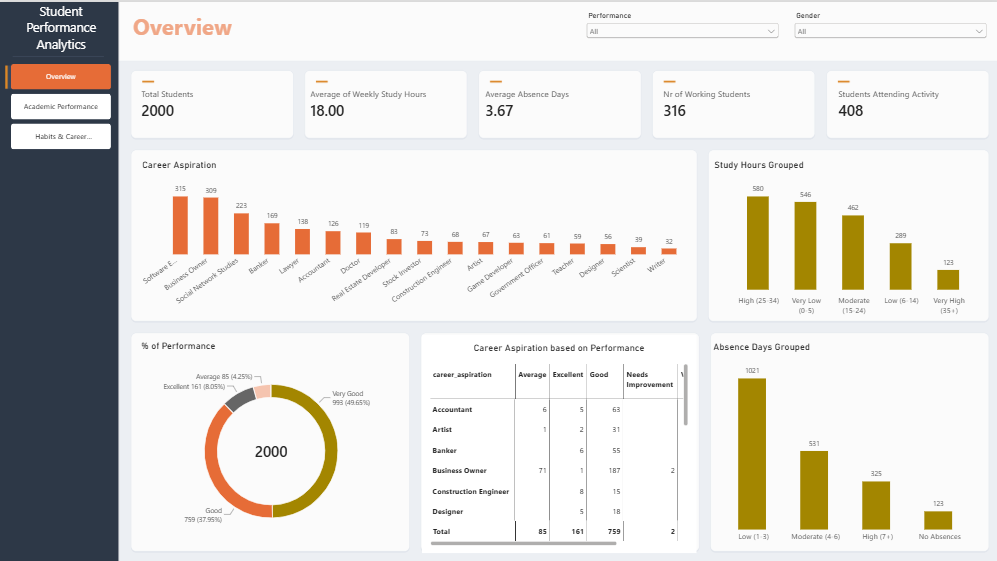

What the dashboard file says about the page in this screenshot:
{"tool":"powerbi","page":{"name":"Overview","canvas":[1920,1080],"ordinal":0},"visuals":[{"type":"cardVisual","fields":{"Data":["_Formulas.Total Students"]},"box":[257.6,129.9,302.3,132],"z":0},{"type":"cardVisual","fields":{"Data":["_Formulas.Average Absence"]},"box":[915.5,129.9,315.1,132],"z":1000},{"type":"cardVisual","fields":{"Data":["_Formulas.Working Students"]},"box":[1256.2,129.9,315.1,132],"z":2000},{"type":"cardVisual","fields":{"Data":["_Formulas.Activity Students"]},"box":[1590.4,129.9,304.5,132],"z":3000},{"type":"clusteredColumnChart","title":"Career Aspiration  ","fields":{"Category":["StudentPerformance.career_aspiration"],"Y":["CountNonNull(StudentPerformance.id)"]},"box":[260,287.5,1077.5,328.8],"z":4000},{"type":"clusteredColumnChart","title":"Study Hours Grouped","fields":{"Category":["StudentPerformance.Study Hours Group"],"Y":["CountNonNull(StudentPerformance.id)"]},"box":[1353.7,286.2,540.3,331.4],"z":5000},{"type":"clusteredColumnChart","title":"Absence Days Grouped","fields":{"Category":["StudentPerformance.Absence Group"],"Y":["CountNonNull(StudentPerformance.id)"]},"box":[1351.8,634.5,542.2,418],"z":6000},{"type":"slicer","fields":{"Values":["StudentPerformance.gender"]},"box":[1517.5,16.9,376.5,84.7],"z":7000},{"type":"cardVisual","fields":{"Data":["_Formulas.Average Study Hours"]},"box":[581.8,129.9,315.1,132],"z":8000},{"type":"donutChart","title":"% of Performance","fields":{"Category":["StudentPerformance.Overall Avg Score Group"],"Y":["CountNonNull(StudentPerformance.id)"]},"box":[257.7,633.8,528.2,416.9],"z":9000},{"type":"slicer","fields":{"Values":["StudentPerformance.Overall Avg Score Group"]},"box":[1121.5,16.9,376.5,84.7],"z":10000},{"type":"pivotTable","title":"Career Aspiration based on Performance","fields":{"Columns":["StudentPerformance.Overall Avg Score Group"],"Rows":["StudentPerformance.career_aspiration"],"Values":["CountNonNull(StudentPerformance.id)"]},"box":[810.8,636.8,524.6,417],"z":11000},{"type":"textbox","box":[257.7,16.6,638.7,84.7],"z":11002},{"type":"pageNavigator","box":[23.9,117.8,191.4,163.8],"z":11003},{"type":"textbox","box":[23.9,0,191.4,101.2],"z":11004}]}

Visuals, with their boxes on the page's 1920x1080 design canvas (x1, y1, x2, y2). These are canvas units, not pixel positions in the 997x561 screenshot, which may show the page scaled, cropped or inside an application window:
cardVisual - _Formulas.Total Students: 258 130 560 262
cardVisual - _Formulas.Average Absence: 916 130 1231 262
cardVisual - _Formulas.Working Students: 1256 130 1571 262
cardVisual - _Formulas.Activity Students: 1590 130 1895 262
"Career Aspiration  " clusteredColumnChart: 260 288 1338 616
"Study Hours Grouped" clusteredColumnChart: 1354 286 1894 618
"Absence Days Grouped" clusteredColumnChart: 1352 634 1894 1052
slicer - StudentPerformance.gender: 1518 17 1894 102
cardVisual - _Formulas.Average Study Hours: 582 130 897 262
"% of Performance" donutChart: 258 634 786 1051
slicer - StudentPerformance.Overall Avg Score Group: 1122 17 1498 102
"Career Aspiration based on Performance" pivotTable: 811 637 1335 1054
textbox: 258 17 896 101
pageNavigator: 24 118 215 282
textbox: 24 0 215 101
